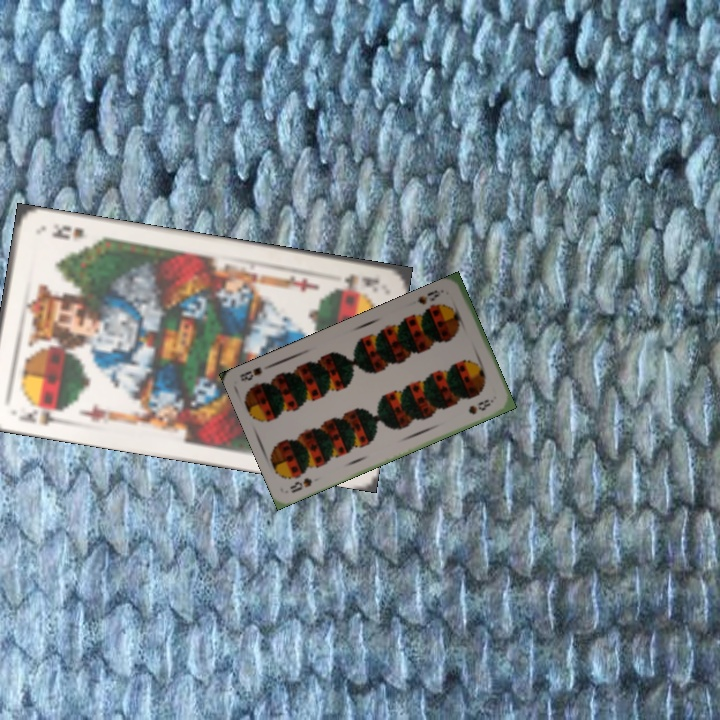S8: (413, 285, 447, 307), (285, 473, 314, 496)
SK: (14, 400, 67, 428), (330, 270, 382, 291)
